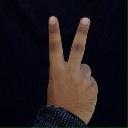hand: (45, 15, 98, 125)
